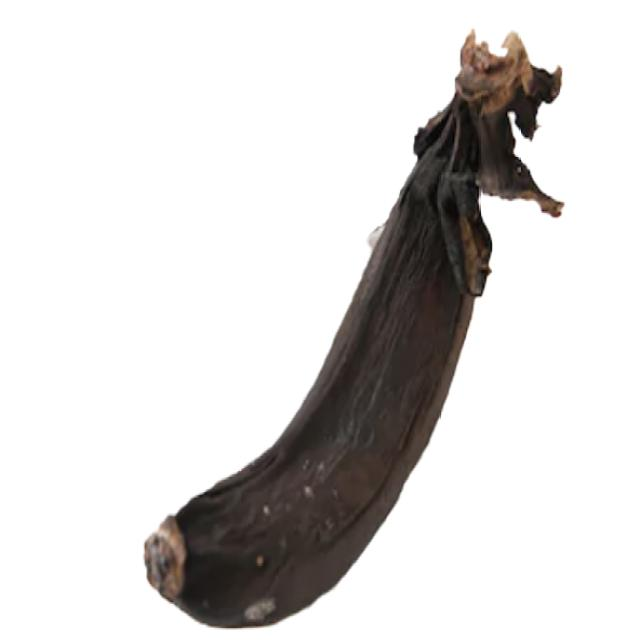rotten-banana: (142, 26, 564, 630)
